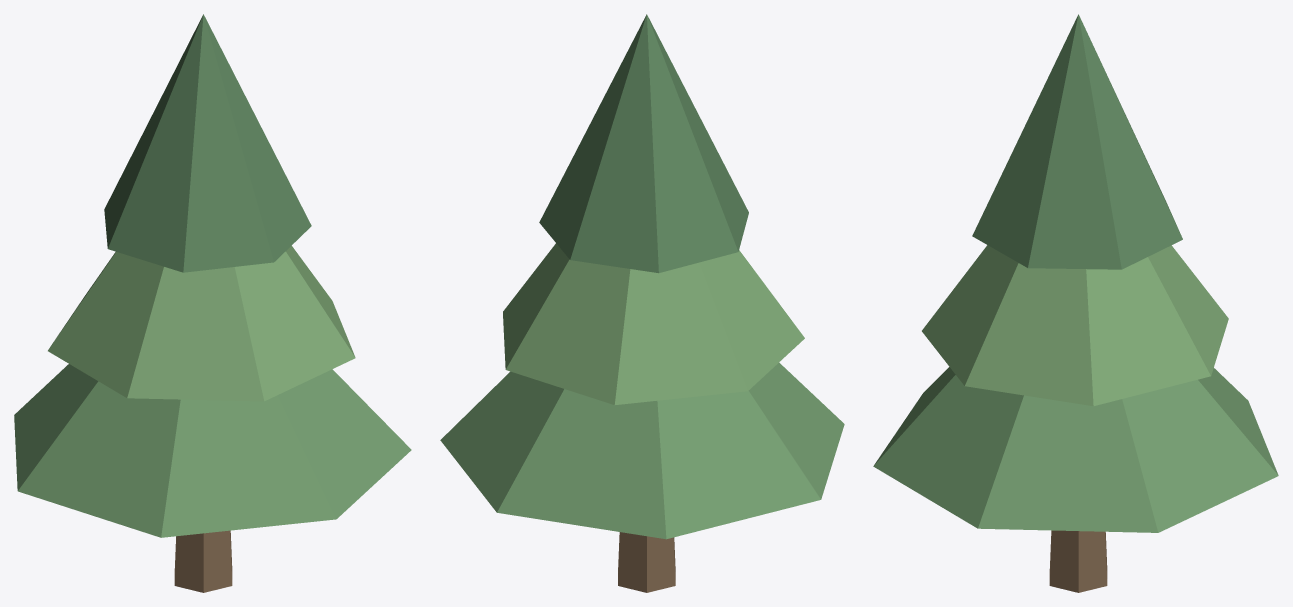
Rendered from valak_pinheiro_1.glb.
3 views of the same model, side by side, from view 1: azimuth 30°, elevation 25°; view 2: azimuth 150°, elevation 25°; view 3: azimuth 270°, elevation 25° (orthographic).
Visible parts, largest first — view 1: pinheiro; view 2: pinheiro; view 3: pinheiro.
Part boxes in pixels (<box>): pinheiro: <box>14,14,411,592</box>; pinheiro: <box>440,14,844,592</box>; pinheiro: <box>873,14,1278,592</box>.
Size of the model in its own units: 1.44 by 2.24 by 1.46.
